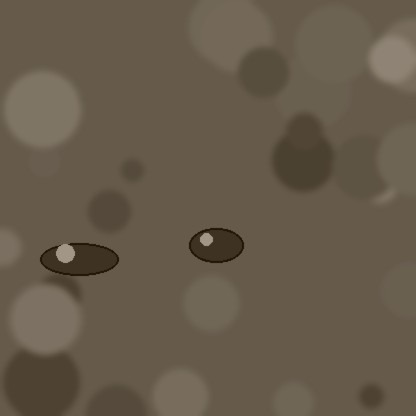gota: (40, 244, 118, 278), (189, 229, 243, 265)
